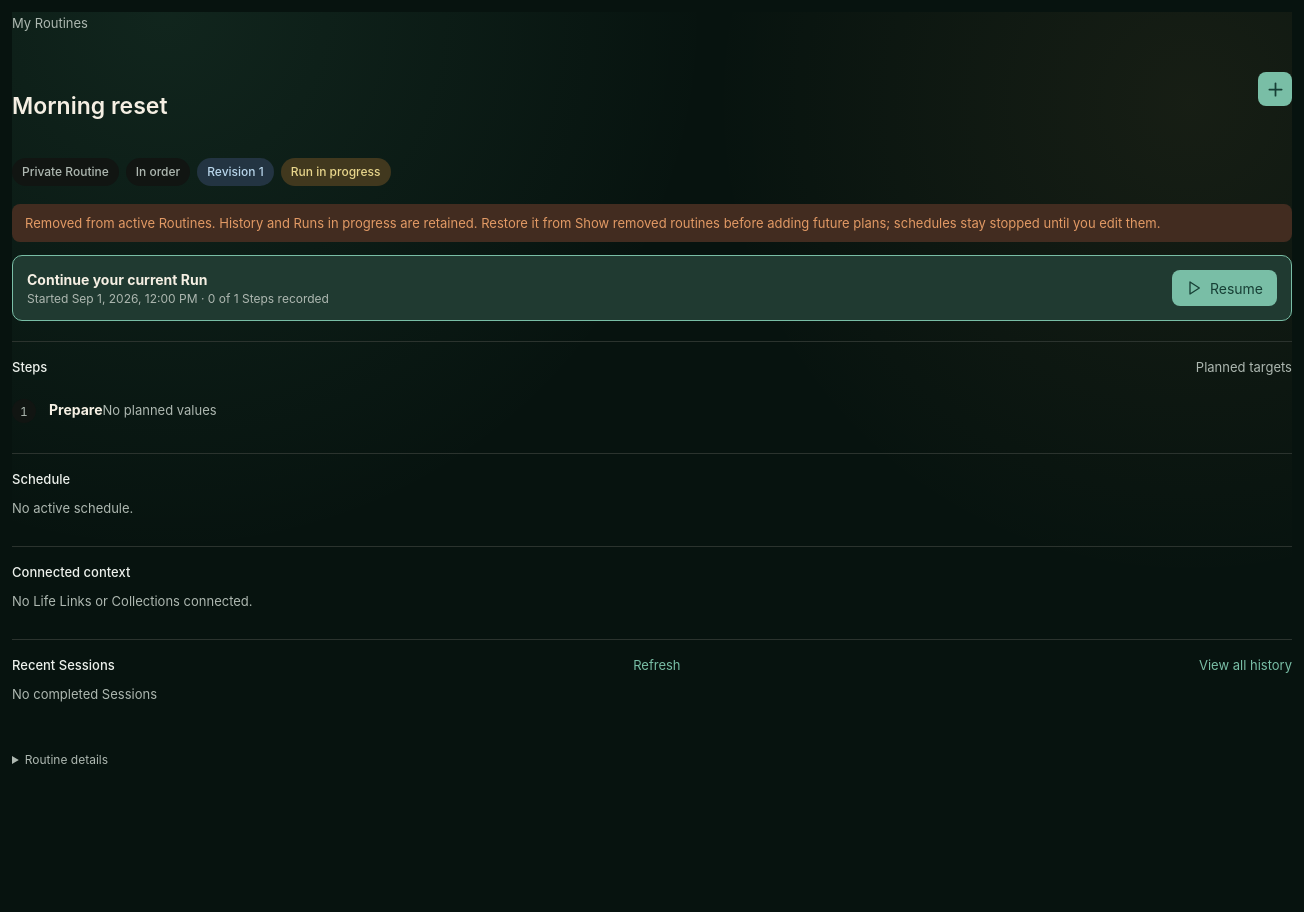
Scenario: Routine selection, retained-history deletion, and scoped History › keeps a removed Routine's current Run resumable but hides new planning actions
Expected: the button "Resume" is shown, x1=1172 y1=270 x2=1277 y2=306
What coordinates should you click on to do the following:
click the button named "Actions for Morning reset"
I would click on:
 (1275, 89)
Its box is x1=1258 y1=72 x2=1292 y2=106.
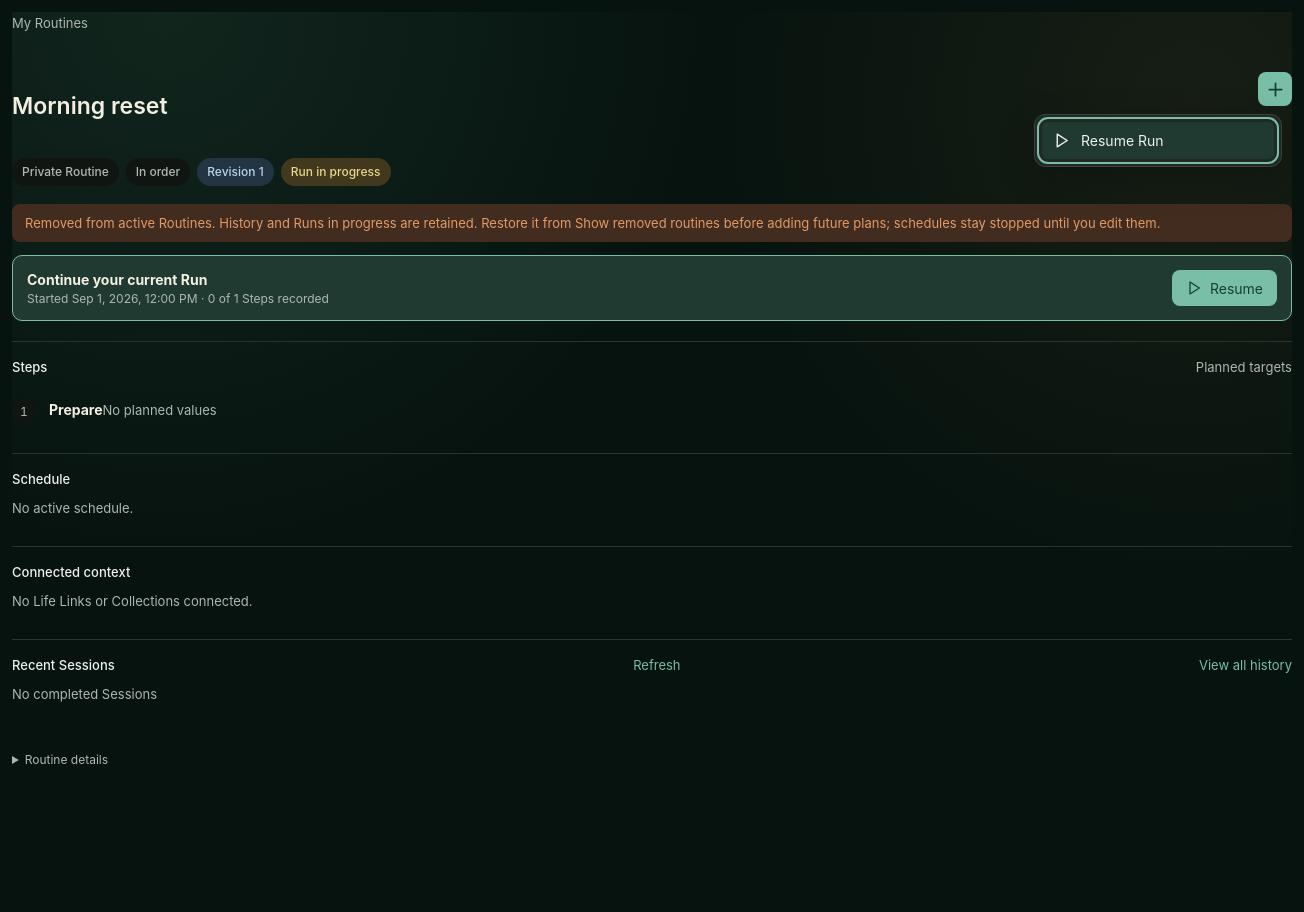
Result: the menu item "Resume Run" is shown at x1=1042 y1=122 x2=1274 y2=159
